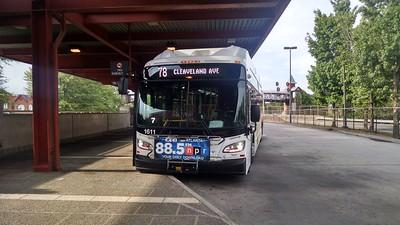bus: (133, 41, 266, 178)
